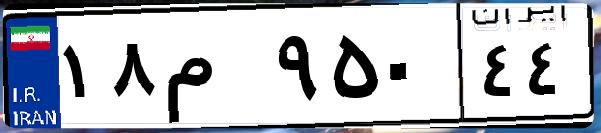0: (385, 28, 445, 110)
1: (57, 26, 110, 100)
4: (475, 38, 525, 113), (525, 38, 570, 115)
5: (330, 28, 385, 110)
8: (110, 28, 158, 98)
9: (270, 28, 330, 110)
م: (158, 20, 270, 120)
